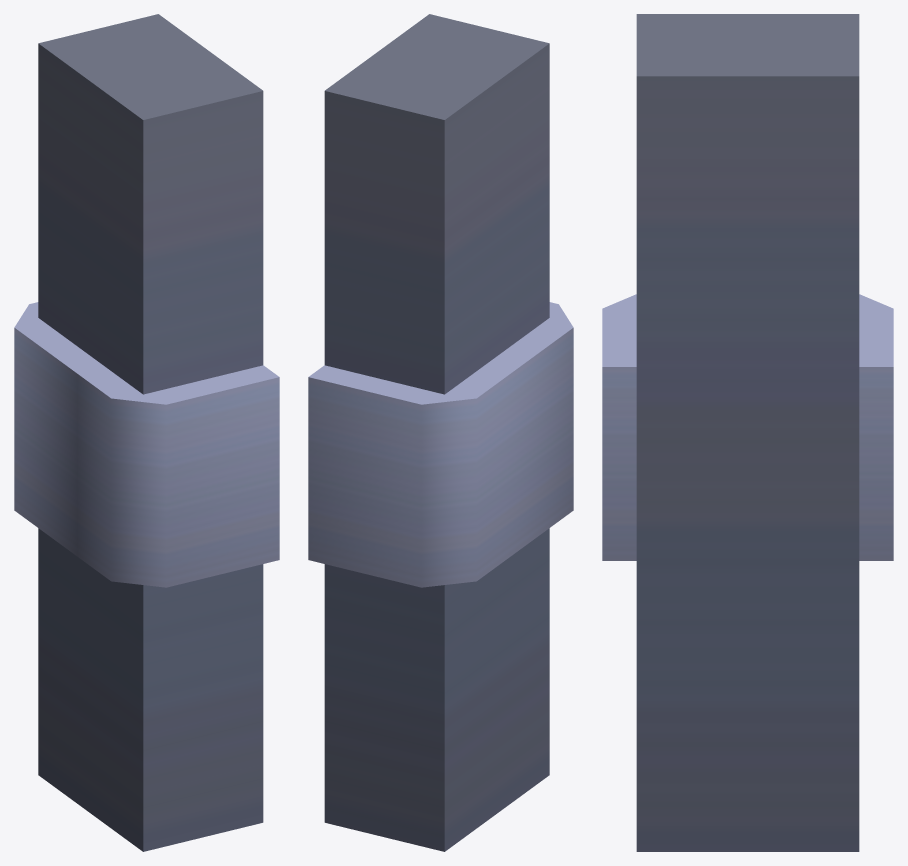
The model's file is chimney.glb.
The picture shows the model from 3 angles, left to right: view 1: azimuth 30°, elevation 25°; view 2: azimuth 150°, elevation 25°; view 3: azimuth 270°, elevation 25°; orthographic projection. The views are drawn at different scales.
Visible parts, largest first — view 1: chimney; view 2: chimney; view 3: chimney.
Part boxes in pixels (x1=…): chimney: x1=14, y1=14, x2=279, y2=851; chimney: x1=308, y1=14, x2=573, y2=851; chimney: x1=602, y1=14, x2=893, y2=851.
Bounding box in the file's own units: 0.2119 × 1 × 0.34.
Materials: 1 (1 with a texture image).
